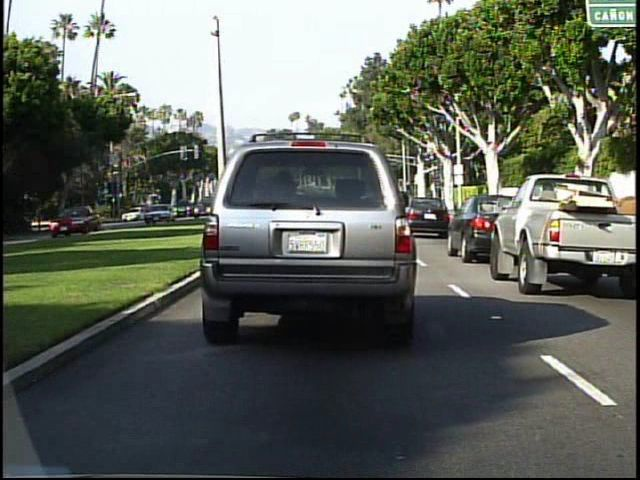person: (69, 206, 81, 226)
